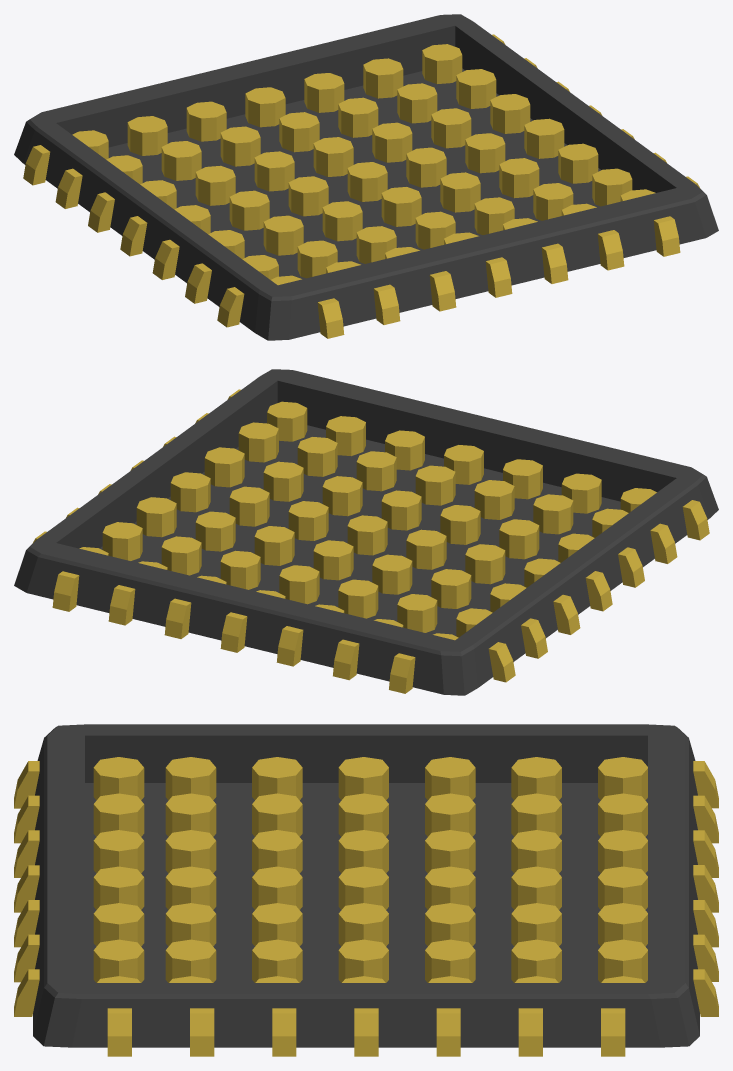
Rendered from towerBase_newFBX.fbx.
3 renders of one model, top to bottom at view 1: azimuth 30°, elevation 25°; view 2: azimuth 150°, elevation 25°; view 3: azimuth 270°, elevation 25°, orthographic. The views are drawn at different scales.
Visible parts, largest first — view 1: Chip, Cube.063, Cube.047, Cube.039, Cube.070, Cube.054, Cube.046, Cube.040, Cube.065, Cube.064, Cube.036, Cube.034 (+45 smaller); view 2: Chip, Cube.050, Cube.037, Cube.043, Cube.052, Cube.051, Cube.045, Cube.044, Cube.036, Cube.066, Cube.041, Cube.048 (+45 smaller); view 3: Chip, Cube.058, Cube.053, Cube.057, Cube.075, Cube.074, Cube.056, Cube.049, Cube.045, Cube.044, Cube.060, Cube.059 (+52 smaller).
Part boxes in pixels (bbox=[...]): Chip: bbox=[14, 14, 718, 340]; Cube.063: bbox=[254, 151, 294, 191]; Cube.047: bbox=[558, 143, 598, 183]; Cube.039: bbox=[372, 122, 412, 162]; Cube.070: bbox=[186, 101, 226, 141]; Cube.054: bbox=[322, 201, 362, 241]; Cube.046: bbox=[440, 172, 480, 212]; Cube.040: bbox=[406, 147, 446, 187]; Cube.065: bbox=[229, 190, 269, 230]; Cube.064: bbox=[288, 176, 328, 216]; Cube.036: bbox=[465, 133, 505, 173]; Cube.034: bbox=[363, 58, 403, 98]; Chip: bbox=[14, 369, 718, 695]; Cube.050: bbox=[263, 461, 303, 501]; Cube.037: bbox=[170, 472, 210, 512]; Cube.043: bbox=[381, 490, 421, 530]; Cube.052: bbox=[533, 494, 573, 534]; Cube.051: bbox=[499, 519, 539, 559]; Cube.045: bbox=[356, 451, 396, 491]; Cube.044: bbox=[415, 465, 455, 505]; Cube.036: bbox=[229, 486, 269, 526]; Cube.066: bbox=[431, 569, 471, 608]; Cube.041: bbox=[347, 515, 387, 555]; Cube.048: bbox=[238, 422, 278, 462]; Chip: bbox=[33, 724, 699, 1047]; Cube.058: bbox=[93, 830, 144, 873]; Cube.053: bbox=[165, 830, 216, 873]; Cube.057: bbox=[93, 757, 144, 800]; Cube.075: bbox=[93, 866, 144, 909]; Cube.074: bbox=[93, 903, 144, 946]; Cube.056: bbox=[165, 757, 216, 800]; Cube.049: bbox=[165, 939, 216, 982]; Cube.045: bbox=[165, 903, 216, 946]; Cube.044: bbox=[165, 866, 216, 909]; Cube.060: bbox=[93, 939, 144, 982]; Cube.059: bbox=[93, 793, 144, 836].
Size of the model in its own units: 429 by 34.66 by 429.
